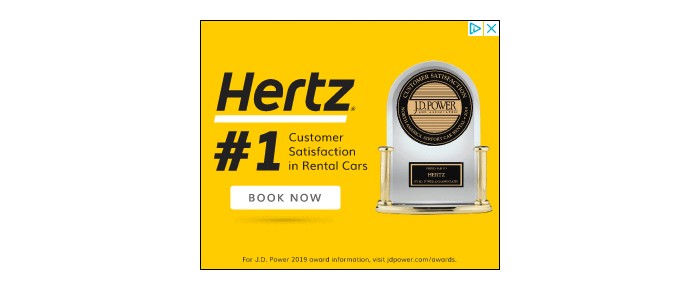fake_button: (224, 183, 347, 218)
